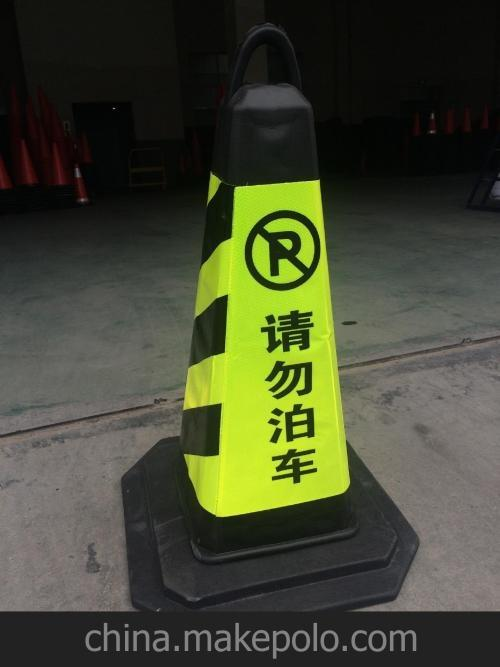cone_barrel: (135, 61, 379, 552), (68, 159, 90, 205), (423, 108, 439, 140)
